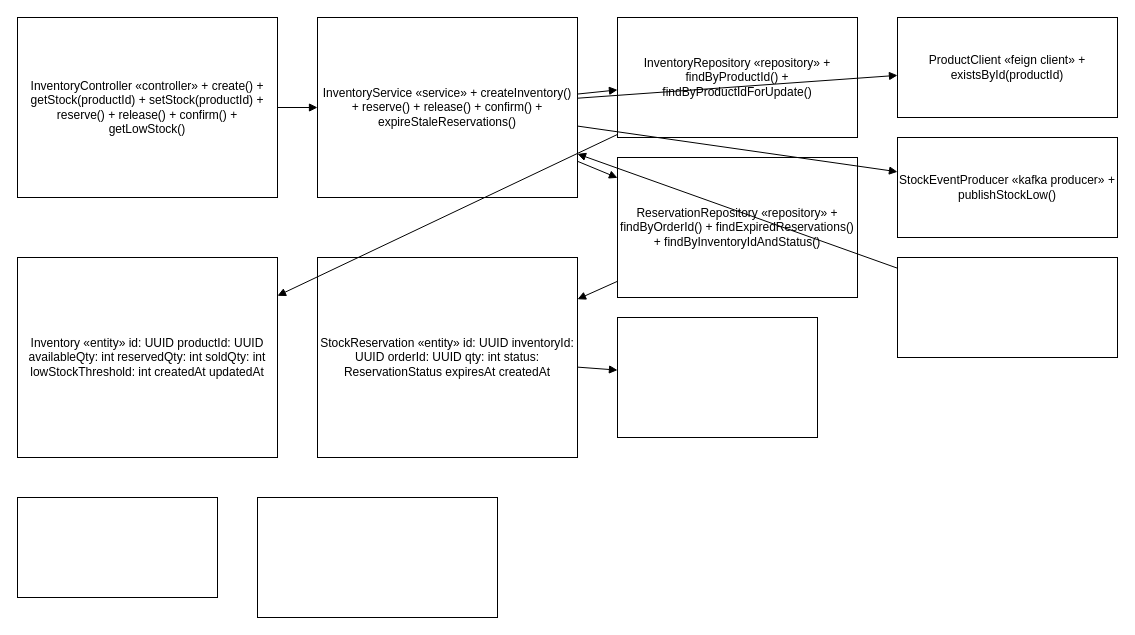
Image size: 1135x635. Some labels were removed from this diagram. The centre of each missing label's shape, as x and y in pixels:
ReservationExpiryJob «scheduled» + expireStaleReservations(): the point at 1007,307
ReservationStatus «enum» RESERVED CONFIRMED RELEASED: the point at 717,377
ReserveRequest «dto» productId orderId qty: the point at 117,547
StockResponse «dto» productId availableQty reservedQty soldQty lowStockThreshold: the point at 377,557
